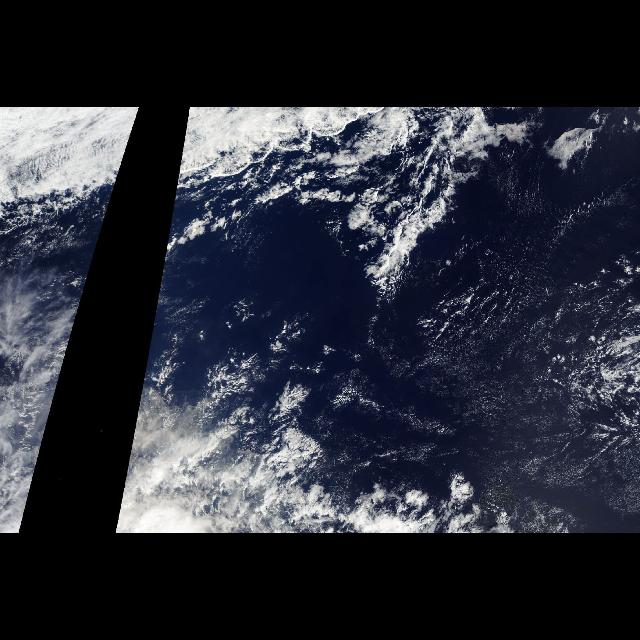Fish: (332, 108, 530, 324)
Gravel: (428, 224, 574, 456)
Sugar: (394, 215, 638, 532)
